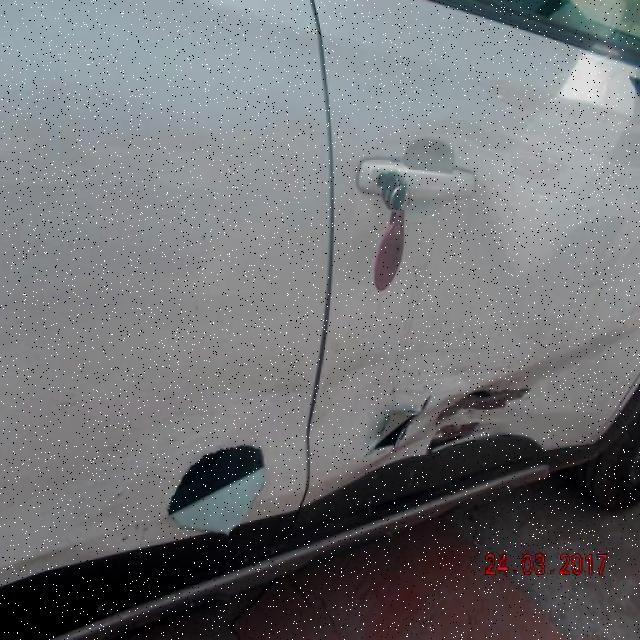car damage: (97, 342, 490, 514), (358, 369, 529, 461), (161, 435, 279, 534)
